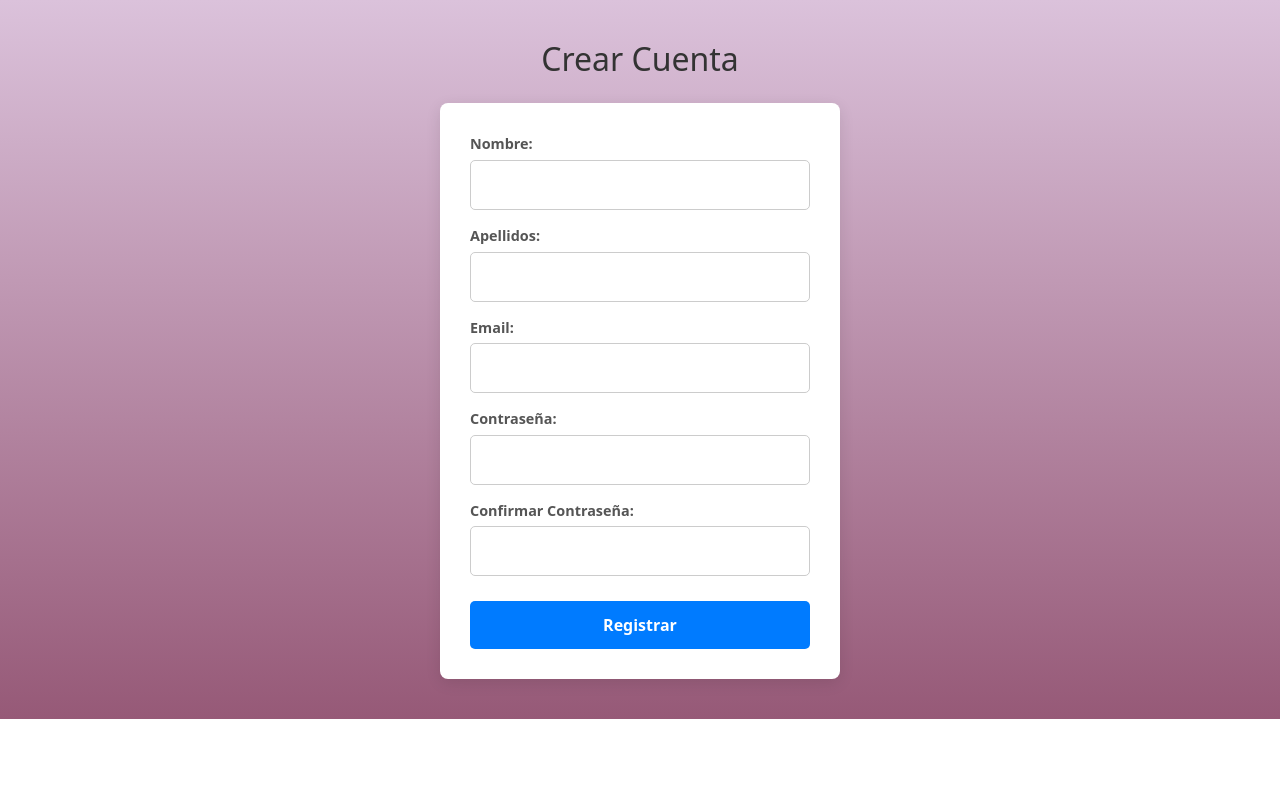
Scenario: RegistroUsuario Component › debe mostrar un error genérico si la API falla sin un mensaje
Type "Juan" into the field with test id "nombre-input".
click(640, 185); type("Juan")  # box [470,160,810,210]
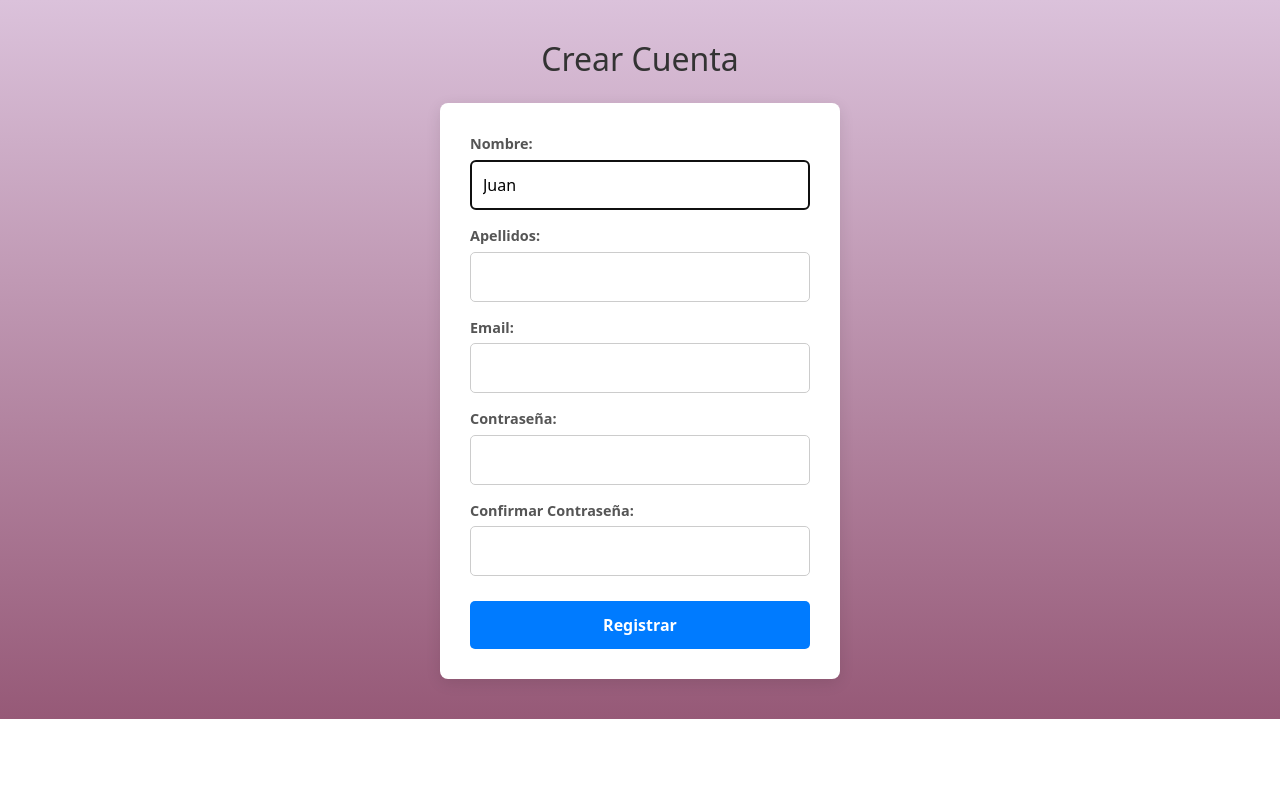
Type "Pérez" into the field with test id "apellidos-input".
click(640, 277); type("Pérez")  # box [470,252,810,302]
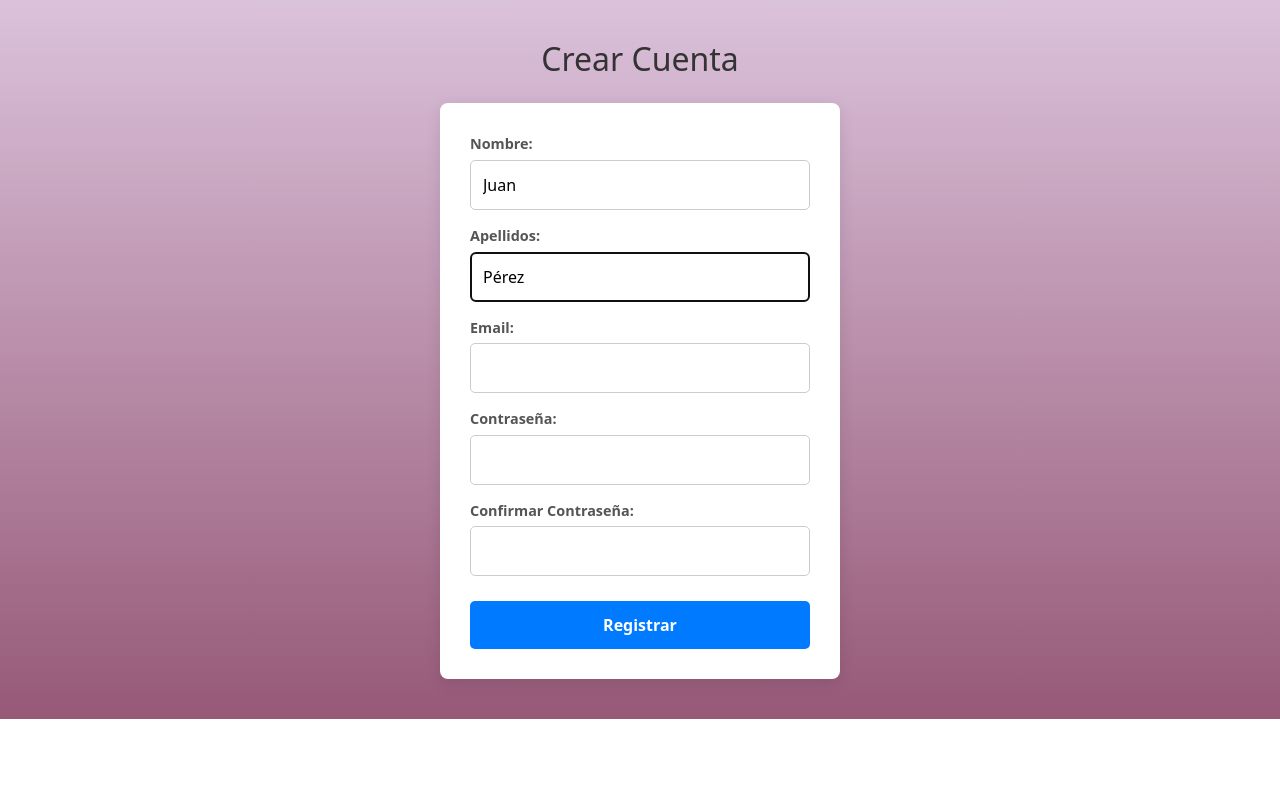
Type "juan@example.com" into the field with test id "email-input".
click(640, 368); type("juan@example.com")  # box [470,343,810,393]
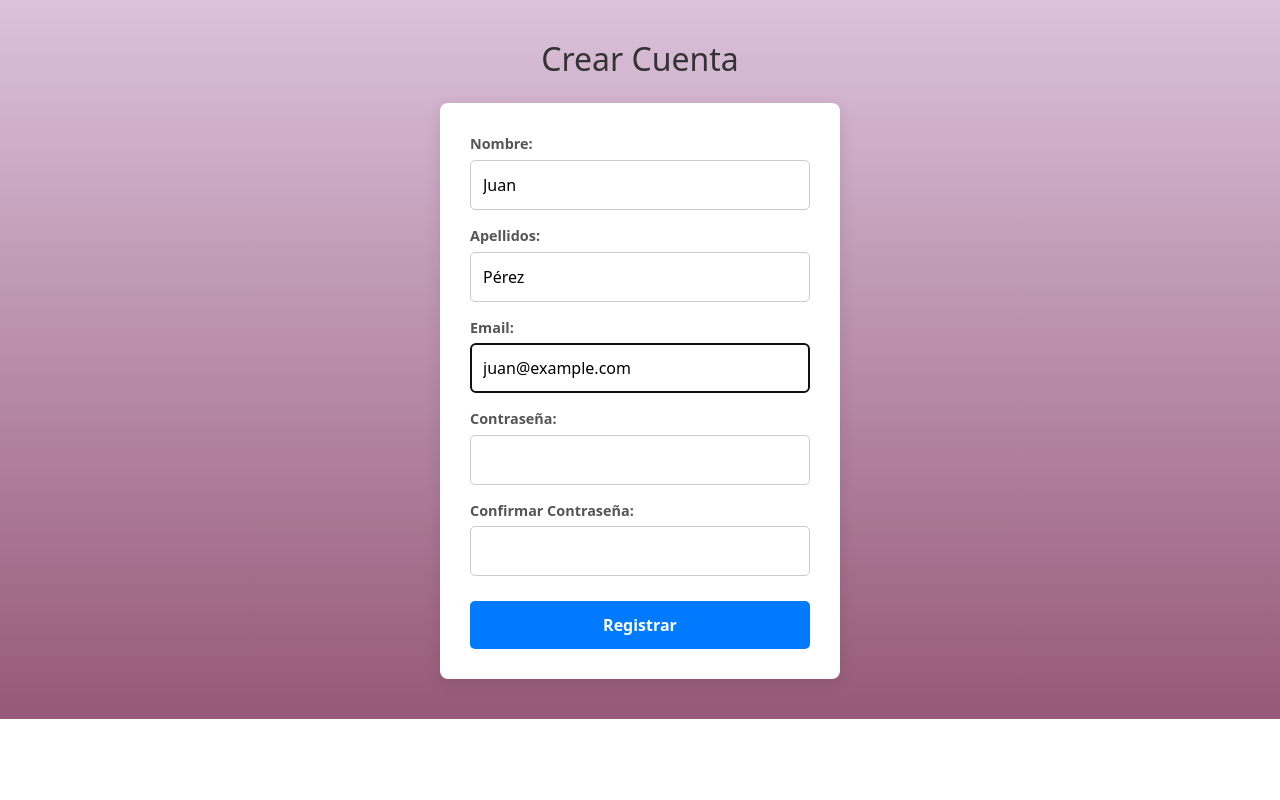
Type "123456" into the password field with test id "password-input".
click(640, 460); type("123456")  # box [470,435,810,485]
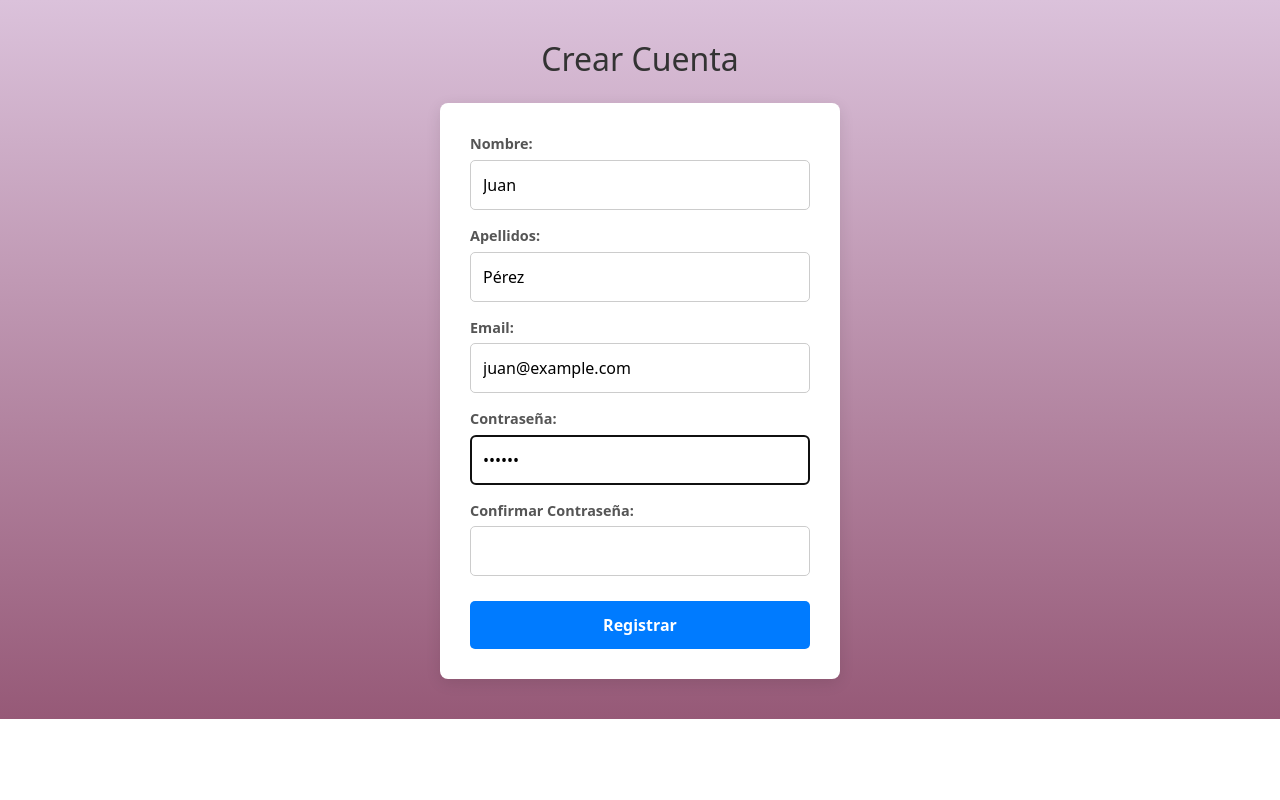
Type "123456" into the password field with test id "confirm-password-input".
click(640, 551); type("123456")  # box [470,526,810,576]
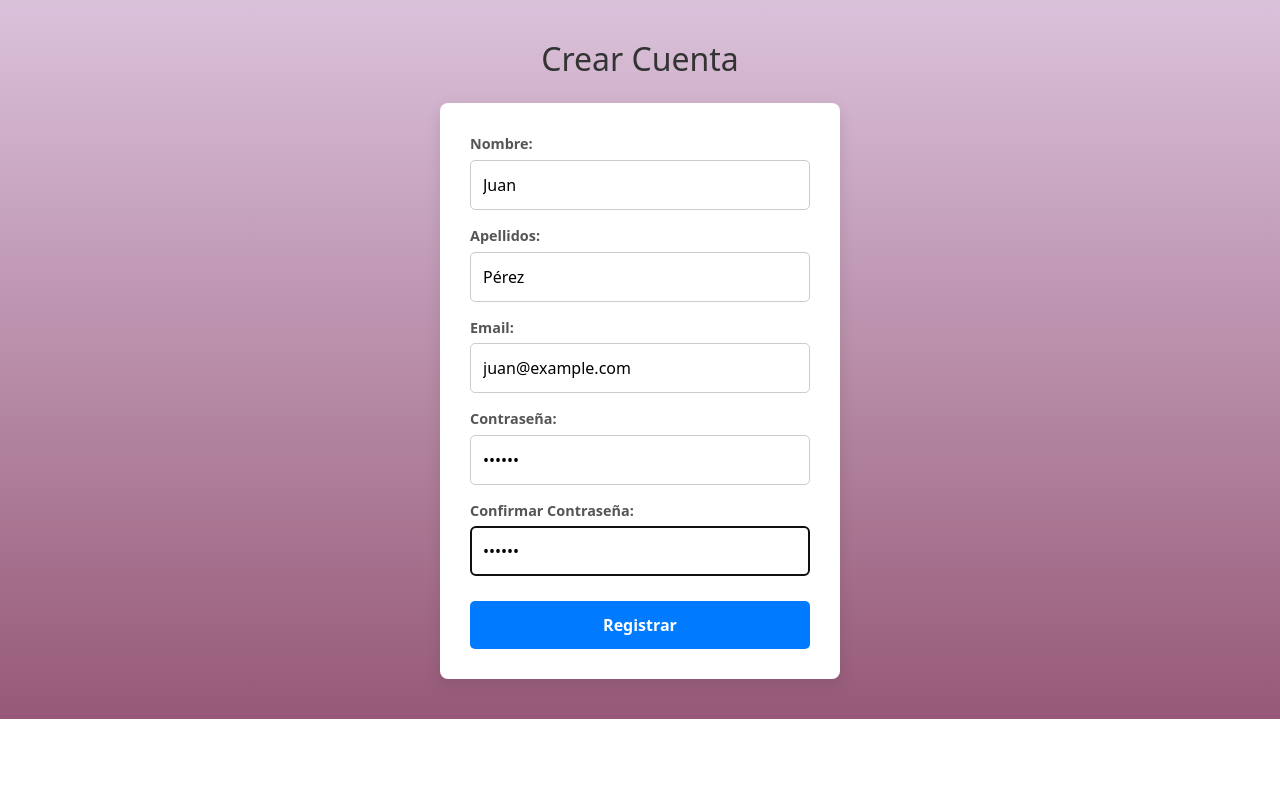
Click the button "Registrar".
click(640, 625)  # box [470,601,810,649]
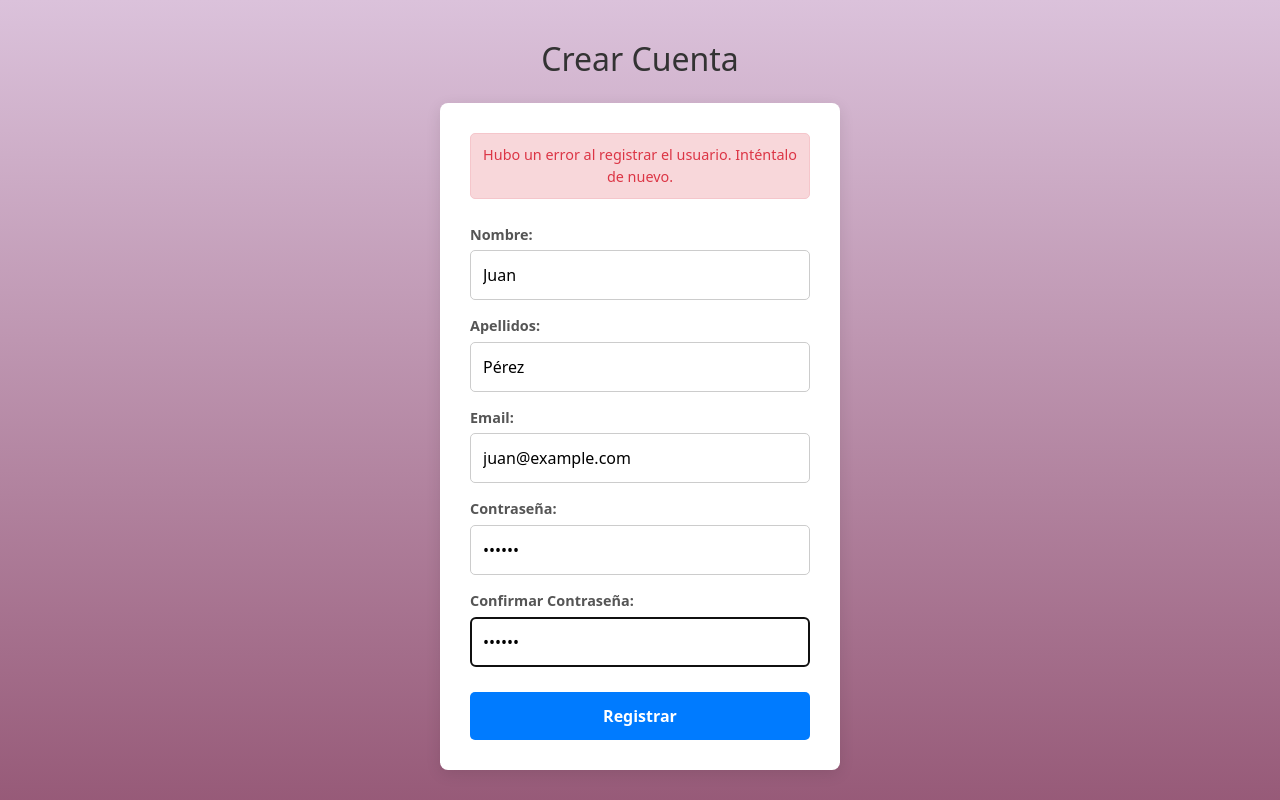
Result: the text "Hubo un error al registrar el usuario. Inténtalo de nuevo." is shown at [470,133,810,199]
